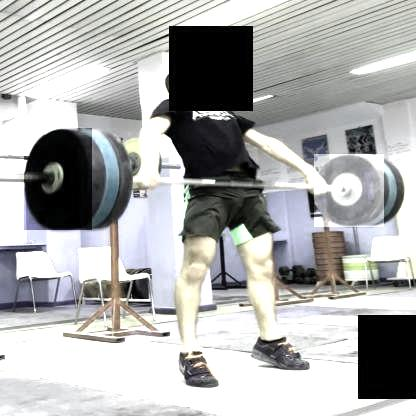barbell: (24, 128, 93, 230), (315, 154, 385, 228)
